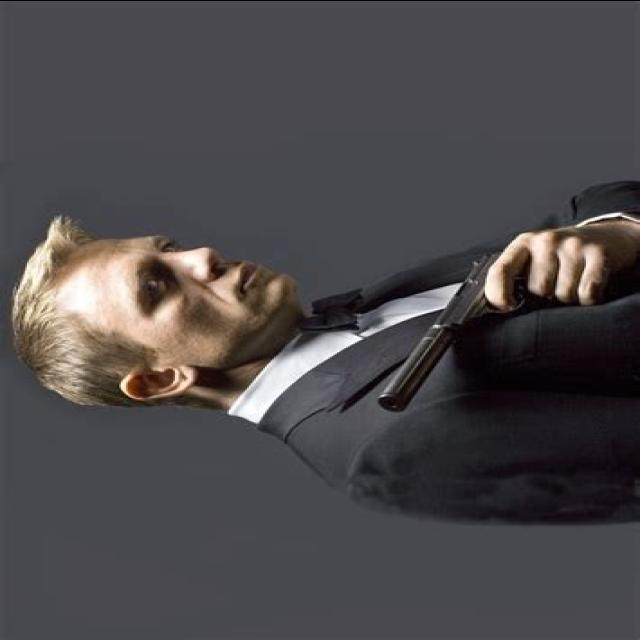weapons: (362, 244, 628, 417)
